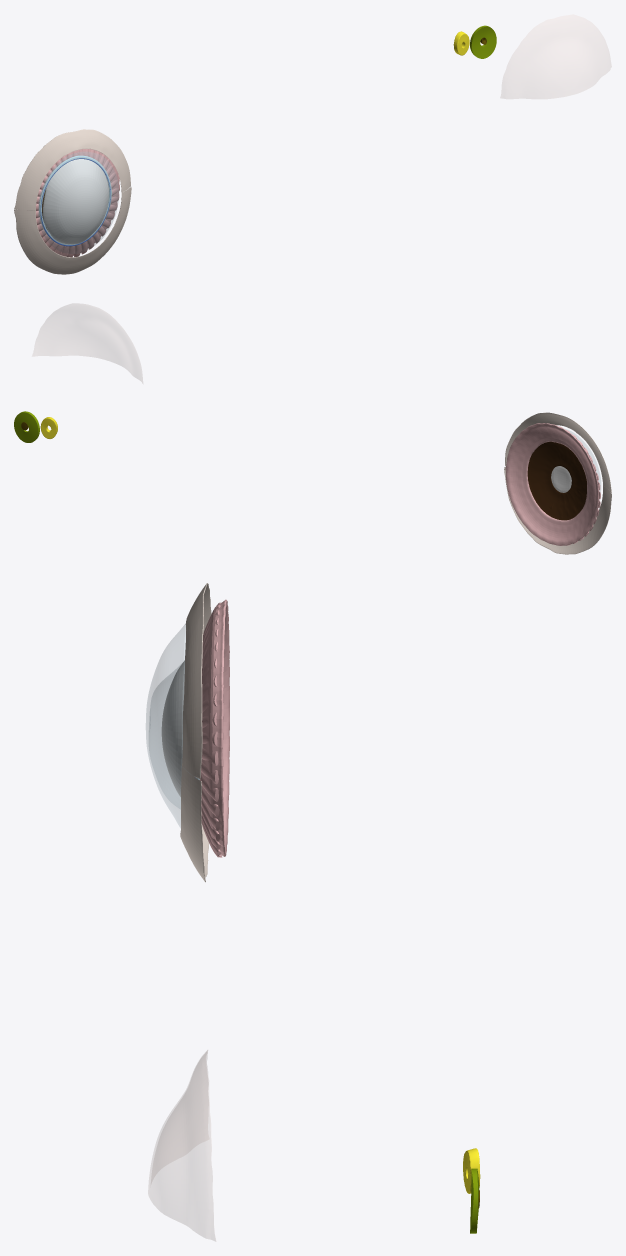
File: female-a-organ-0ab.glb
3 views of the same model, one above another, from view 1: azimuth 30°, elevation 25°; view 2: azimuth 150°, elevation 25°; view 3: azimuth 270°, elevation 25° (orthographic). The views are drawn at different scales.
Visible parts, largest first — view 1: VH_F_palpebral_conjunctiva_of_left_upper_eyelid, VH_F_cornea_R, VH_F_bulbar_conjunctiva_R, VH_F_aqueous_humor_R, VH_F_ciliary_muscle_R, VH_F_trabecular_meshwork_R, VH_F_macula_lutea_L, VH_F_ciliary_body_R; view 2: VH_F_ciliary_body_R, VH_F_palpebral_conjunctiva_of_left_upper_eyelid, VH_F_iris_R, VH_F_bulbar_conjunctiva_R, VH_F_macula_lutea_L, VH_F_aqueous_humor_R; view 3: VH_F_palpebral_conjunctiva_of_left_upper_eyelid, VH_F_bulbar_conjunctiva_R, VH_F_cornea_R, VH_F_ciliary_body_R, VH_F_ciliary_muscle_R, VH_F_aqueous_humor_R.
Boxes of the visible parts, x1=… form: VH_F_palpebral_conjunctiva_of_left_upper_eyelid: x1=500, y1=15, x2=611, y2=98; VH_F_cornea_R: x1=38, y1=152, x2=118, y2=253; VH_F_bulbar_conjunctiva_R: x1=14, y1=129, x2=131, y2=274; VH_F_aqueous_humor_R: x1=43, y1=159, x2=108, y2=244; VH_F_ciliary_muscle_R: x1=36, y1=149, x2=119, y2=257; VH_F_trabecular_meshwork_R: x1=39, y1=155, x2=111, y2=245; VH_F_macula_lutea_L: x1=470, y1=25, x2=496, y2=58; VH_F_ciliary_body_R: x1=36, y1=149, x2=119, y2=256; VH_F_ciliary_body_R: x1=505, y1=423, x2=599, y2=545; VH_F_palpebral_conjunctiva_of_left_upper_eyelid: x1=32, y1=304, x2=142, y2=382; VH_F_iris_R: x1=527, y1=441, x2=586, y2=520; VH_F_bulbar_conjunctiva_R: x1=504, y1=412, x2=611, y2=554; VH_F_macula_lutea_L: x1=14, y1=411, x2=39, y2=442; VH_F_aqueous_humor_R: x1=551, y1=466, x2=571, y2=492; VH_F_palpebral_conjunctiva_of_left_upper_eyelid: x1=148, y1=1050, x2=215, y2=1240; VH_F_bulbar_conjunctiva_R: x1=180, y1=583, x2=211, y2=882; VH_F_cornea_R: x1=146, y1=623, x2=185, y2=827; VH_F_ciliary_body_R: x1=201, y1=599, x2=229, y2=856; VH_F_ciliary_muscle_R: x1=199, y1=602, x2=222, y2=857; VH_F_aqueous_humor_R: x1=161, y1=660, x2=195, y2=796.
Bounding box in the file's own units: 0.0774 × 0.0177 × 0.0193.
